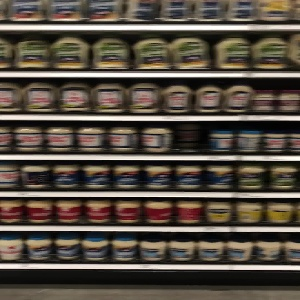void: (172, 121, 206, 155)
